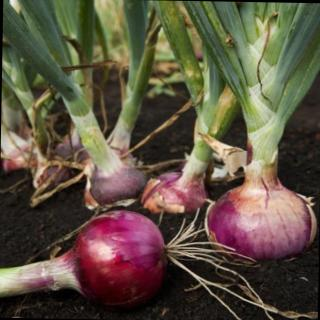Bawang Merah: (201, 173, 320, 267), (61, 205, 176, 302)
